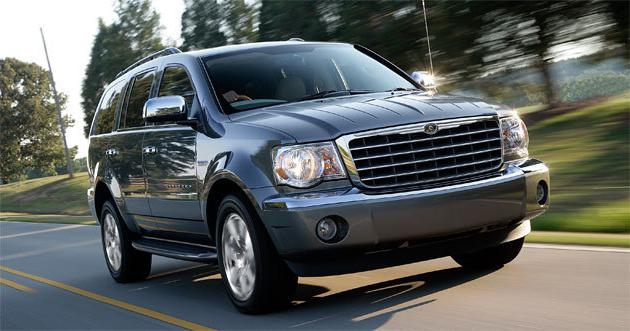Car: (74, 27, 557, 320)
